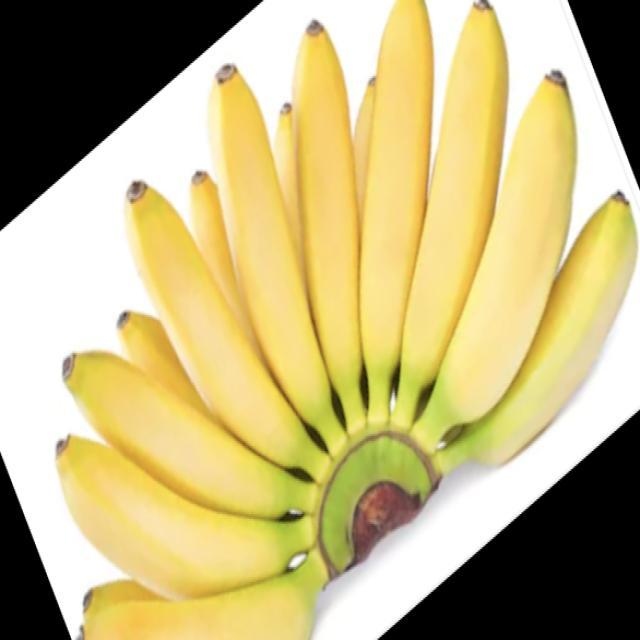Banana: (54, 0, 639, 639)
